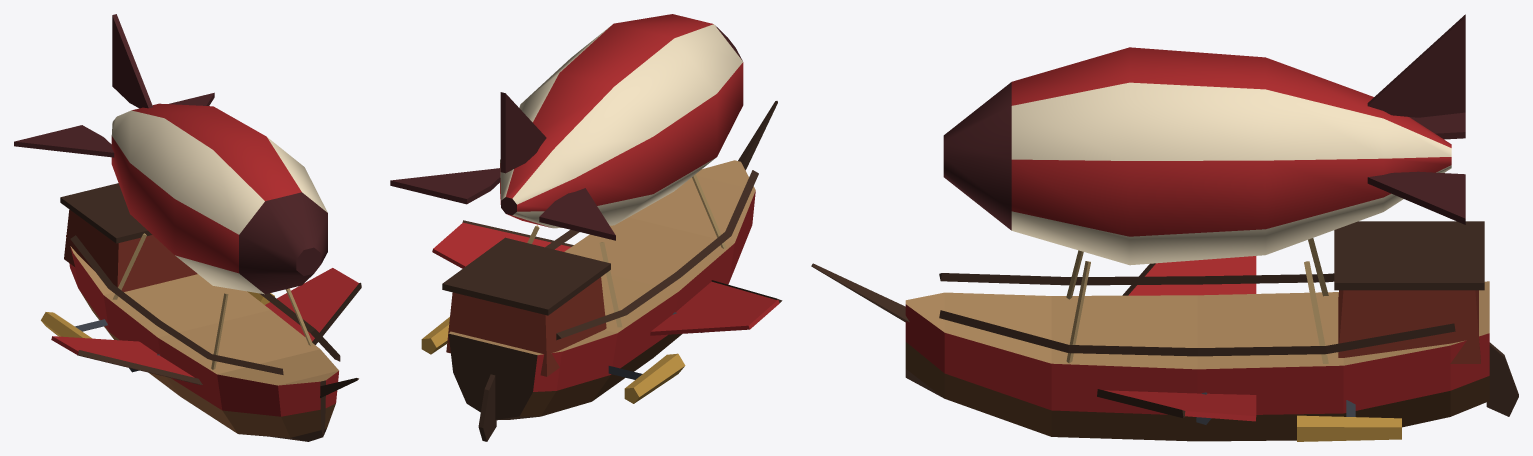
The model's file is SM_Ship_Sloop_LQ.glb.
The picture shows the model from 3 angles, left to right: view 1: azimuth 30°, elevation 25°; view 2: azimuth 150°, elevation 25°; view 3: azimuth 270°, elevation 25°; orthographic projection. The views are drawn at different scales.
Parts seen in each view (by area): view 1: SM_Ship_Sloop_LQ; view 2: SM_Ship_Sloop_LQ; view 3: SM_Ship_Sloop_LQ.
Boxes of the visible parts, x1,y1,x2,y2 form: SM_Ship_Sloop_LQ: (14,14,361,441); SM_Ship_Sloop_LQ: (390,14,782,441); SM_Ship_Sloop_LQ: (811,14,1518,441).
Bounding box in the file's own units: 7.55 × 7.89 × 12.12.
1 material, 1 textured.
